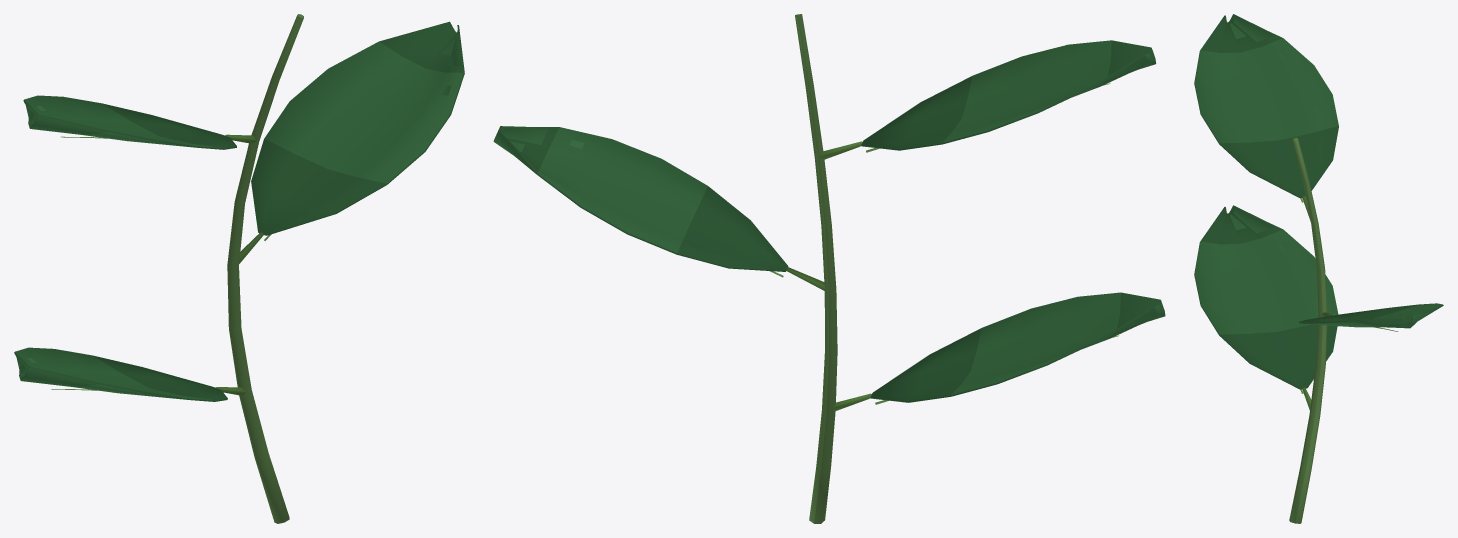
The model's file is garden-orchid-bloom-stem-1.glb.
3 views of the same model, side by side, from view 1: azimuth 30°, elevation 25°; view 2: azimuth 150°, elevation 25°; view 3: azimuth 270°, elevation 25° (orthographic). The views are drawn at different scales.
Visible parts, largest first — view 1: orchid-bloom-stem-1; view 2: orchid-bloom-stem-1; view 3: orchid-bloom-stem-1.
Part boxes in pixels (x1,y1,x2,y2): orchid-bloom-stem-1: (14,14,464,523); orchid-bloom-stem-1: (493,14,1165,523); orchid-bloom-stem-1: (1194,14,1443,523).
Size of the model in its own units: 0.5409 by 0.4761 by 0.2703.
